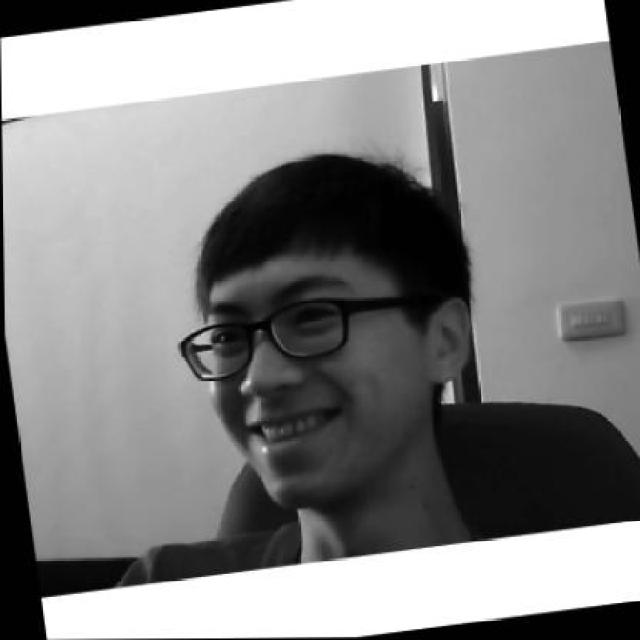attentif: (152, 138, 490, 518)
